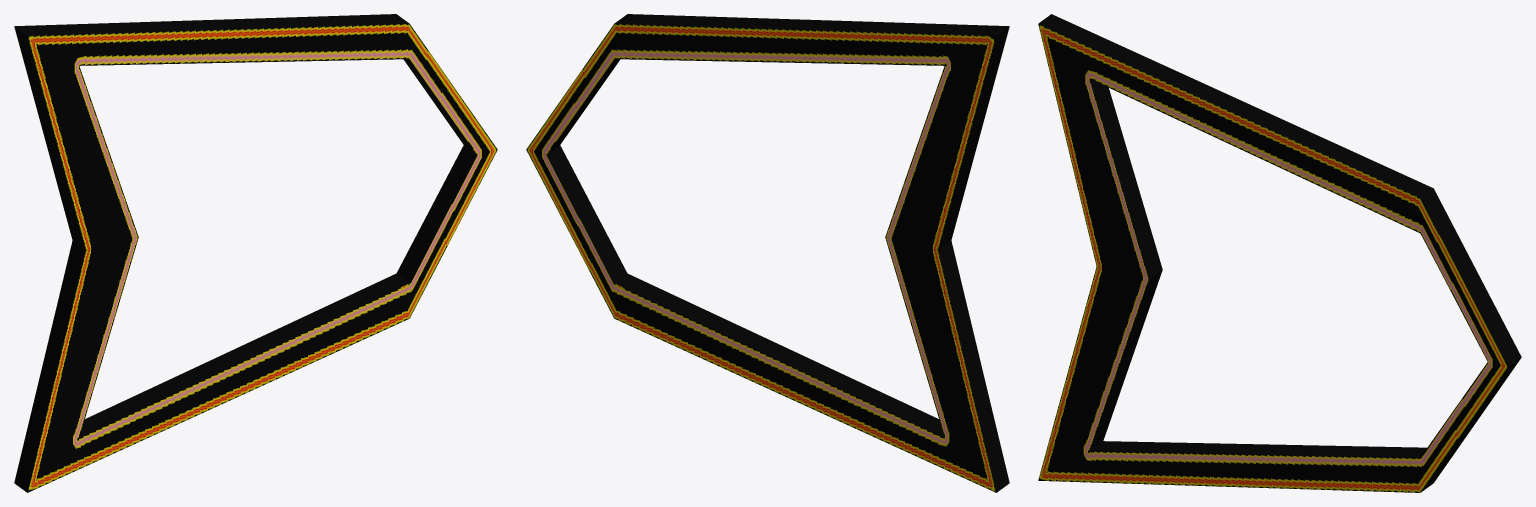
The model's file is block02.fbx.
The picture shows the model from 3 angles, left to right: view 1: azimuth 30°, elevation 25°; view 2: azimuth 150°, elevation 25°; view 3: azimuth 330°, elevation 25°; orthographic projection.
Parts seen in each view (by area): view 1: block02; view 2: block02; view 3: block02.
Boxes of the visible parts, box(x1,y1,x2,y2) form: block02: box(14, 14, 497, 492); block02: box(526, 14, 1009, 492); block02: box(1038, 14, 1521, 492).
Size of the model in its own units: 2.5 by 2.32 by 0.1224.
Materials: 1 (1 with a texture image).
